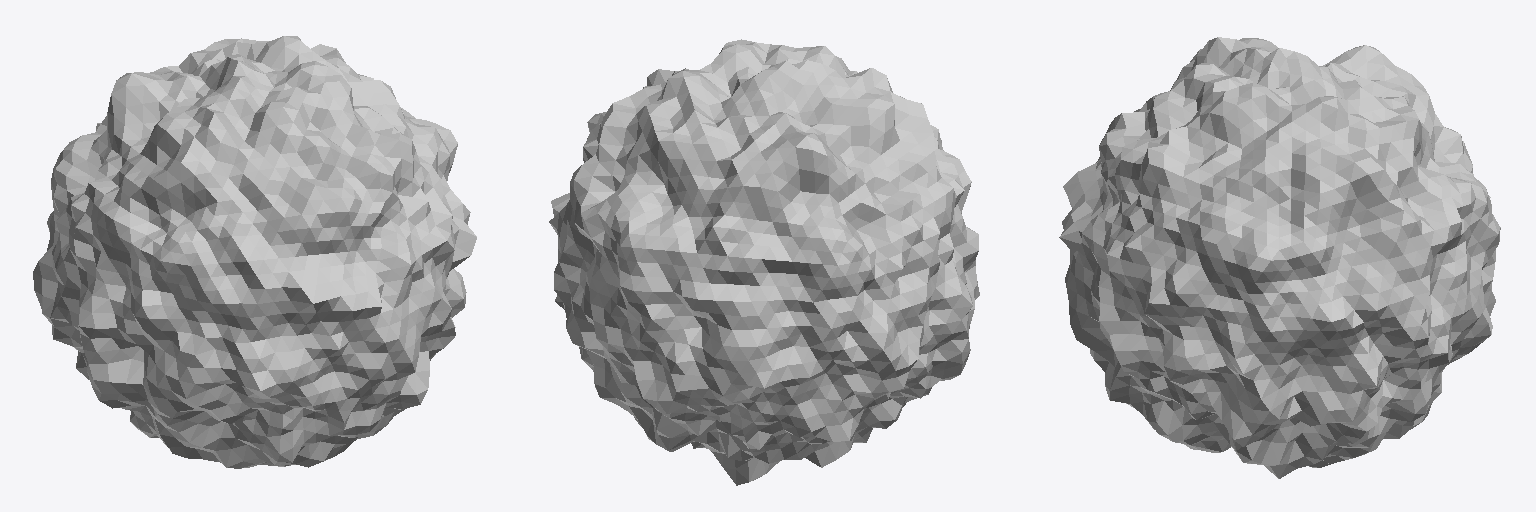
The model's file is Boulder.obj.
3 views of the same model, side by side, from view 1: azimuth 30°, elevation 25°; view 2: azimuth 150°, elevation 25°; view 3: azimuth 270°, elevation 25° (orthographic).
Visible parts, largest first — view 1: Icosphere; view 2: Icosphere; view 3: Icosphere.
Boxes of the visible parts, <box> form: Icosphere: <box>33,36,476,468</box>; Icosphere: <box>549,39,979,485</box>; Icosphere: <box>1059,37,1500,478</box>.
Size of the model in its own units: 2.16 by 2.15 by 2.16.